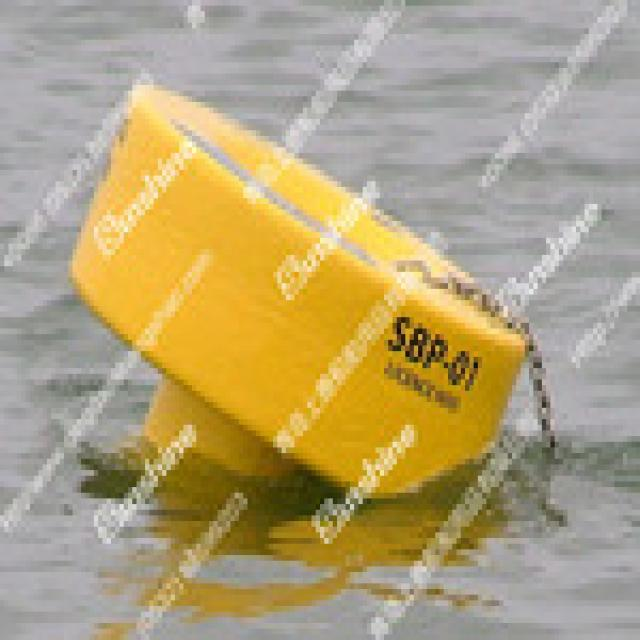buoy: (73, 80, 518, 516)
